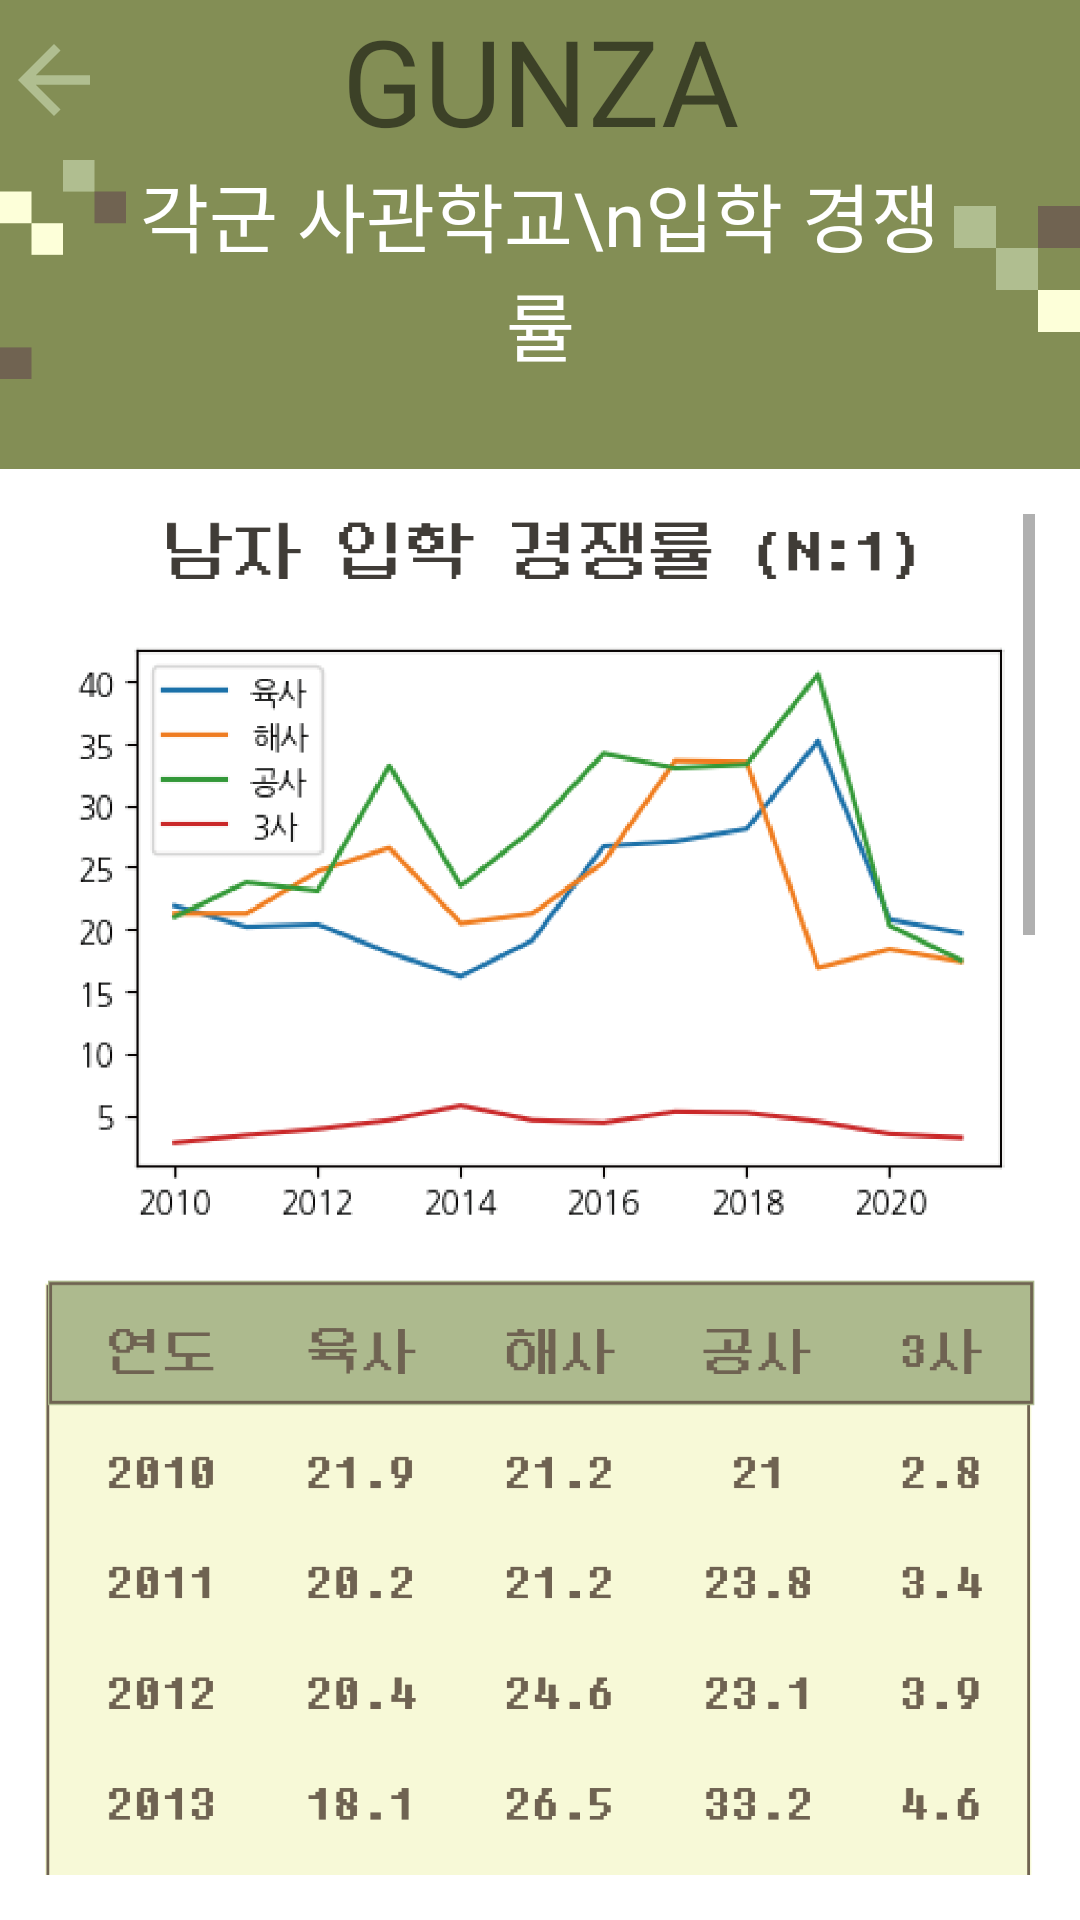

Icons on this 1080px×1920px Android screen, each with the point to tap as (x=x, y=y):
back: (x=54, y=80)
